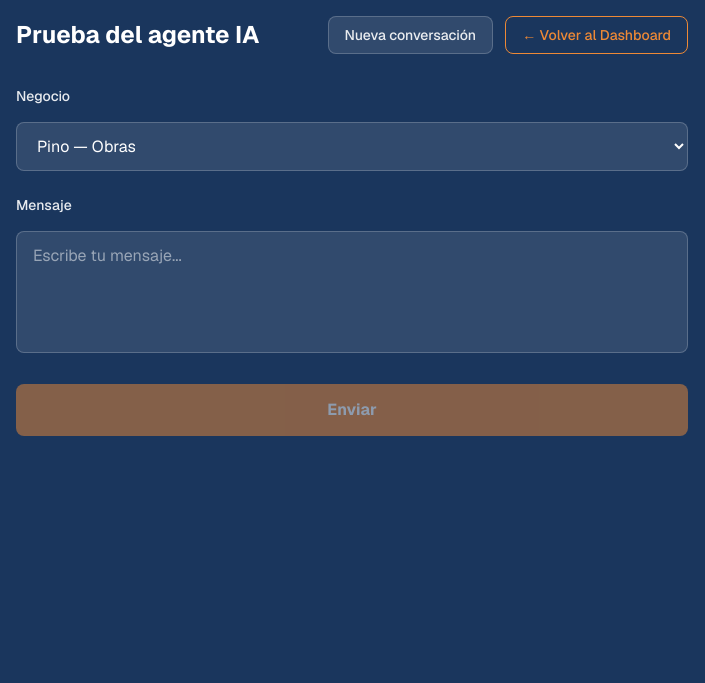
it: /agente: confirmar acciones › enseña la tarjeta «Sí, hazlo / No» y con «Sí» reenvía confirmar_accion sin mensaje
Check: the dropdown shows "Pino — Obras", box left=16, top=122, right=688, bottom=171
Type "marca la factura 3 como pagada" into the text box with placeholder "Escribe tu mensaje..." at {"x": 352, "y": 292}, box left=16, top=231, right=688, bottom=353
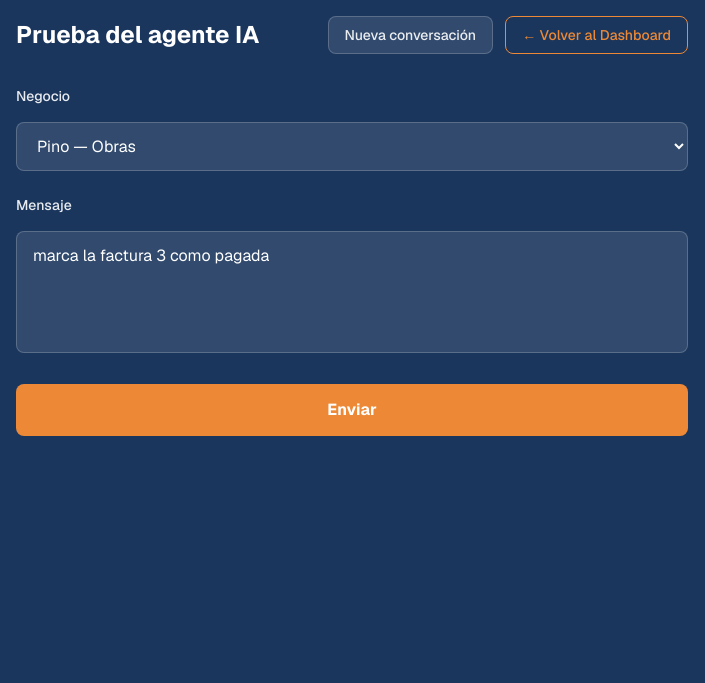
Click the button "Enviar" at {"x": 352, "y": 410}, box left=16, top=384, right=688, bottom=436
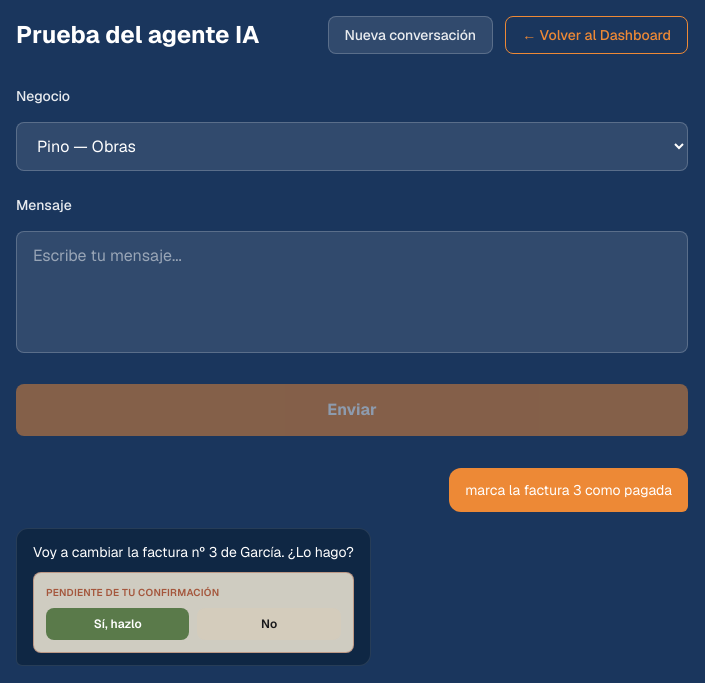
Click the button "Sí, hazlo" at {"x": 118, "y": 624}, box left=46, top=608, right=189, bottom=640
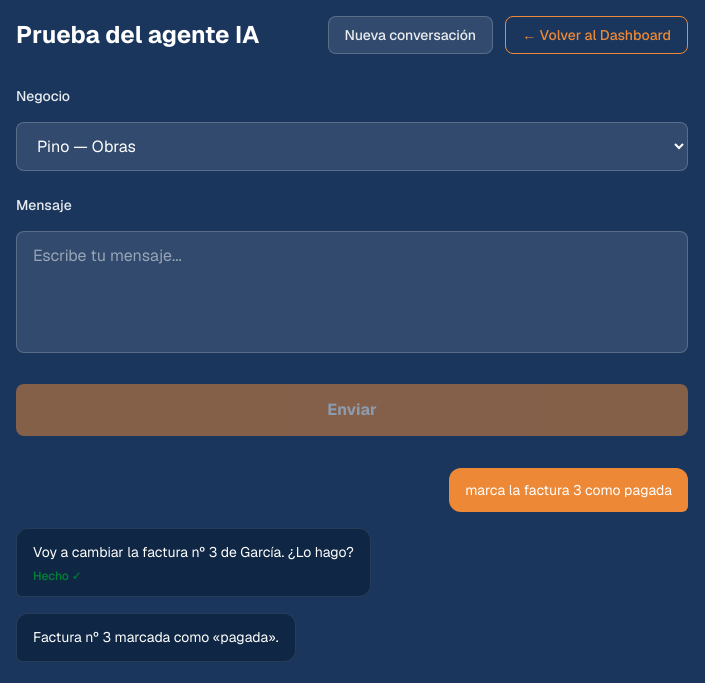
Check: the text "Factura nº 3 marcada como «pagada»." is shown, box left=33, top=626, right=278, bottom=649
Check: the text "Hecho ✓" is shown, box left=33, top=568, right=82, bottom=584
